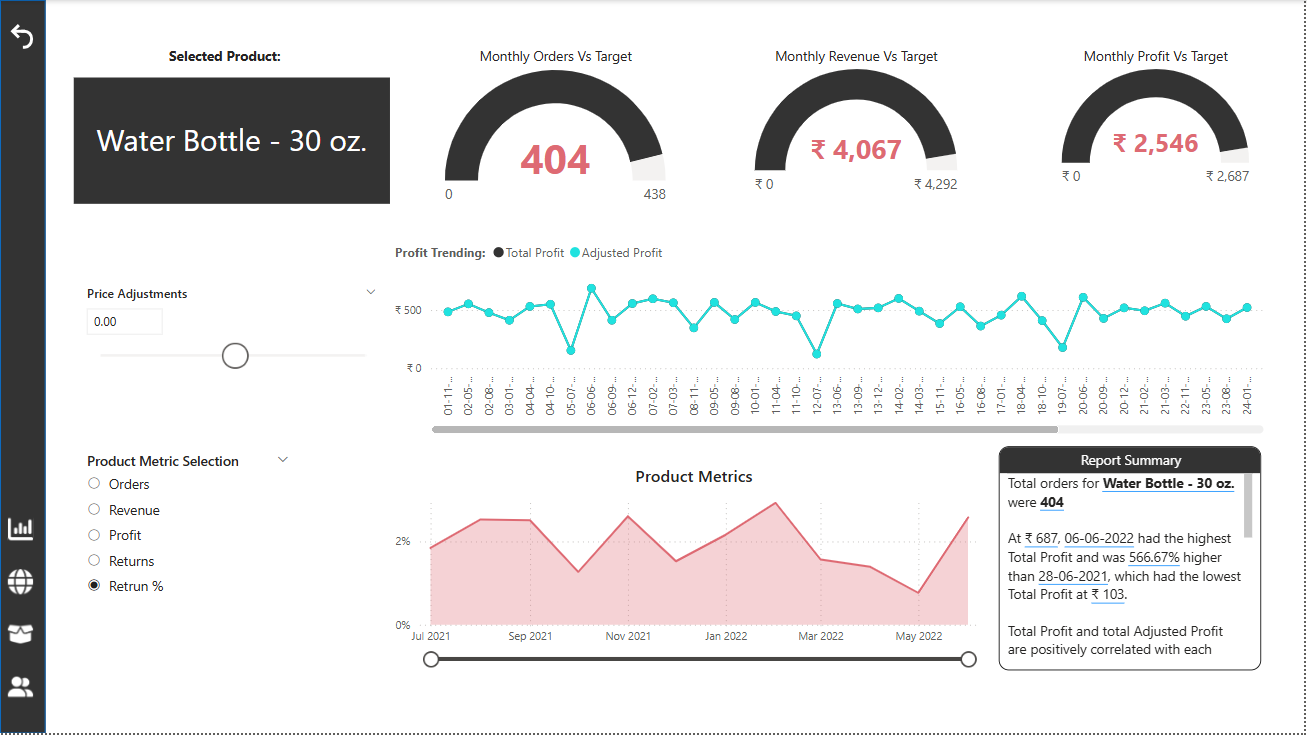

The dashboard page shown, as its layout file describes it:
{"tool":"powerbi","page":{"name":"Product Detail","canvas":[1280,720],"ordinal":2},"visuals":[{"type":"shape","box":[0,0,45,720],"z":0},{"type":"actionButton","box":[3.7,503.1,36.8,33.1],"z":1000,"group":"g1"},{"type":"gauge","title":"Monthly Orders Vs Target","fields":{"Y":["Measure Table.Total Orders"],"MaxValue":["Measure Table.Order Target"]},"box":[431.4,45.6,227,165.6],"z":1000},{"type":"gauge","title":"Monthly Revenue Vs Target","fields":{"Y":["Measure Table.Total Revenue"],"MaxValue":["Measure Table.Revenue Target"]},"box":[725.3,45.6,230.7,154.6],"z":2000},{"type":"actionButton","box":[3.7,554.6,36.8,33.1],"z":2000,"group":"g1"},{"type":"gauge","title":"Monthly Profit Vs Target","fields":{"Y":["Measure Table.Total Profit"],"MaxValue":["Measure Table.Profit Target"]},"box":[1022.8,45.6,222.1,147.2],"z":3000},{"type":"actionButton","box":[3.7,657.7,36.8,33.1],"z":3000,"group":"g1"},{"type":"actionButton","box":[3.7,606.2,36.8,33.1],"z":4000,"group":"g1"},{"type":"lineChart","title":"Profit Trending","fields":{"Category":["Calendar Lookup.Date Hierarchy.Start of Year","Calendar Lookup.Date Hierarchy.Start of Month","Calendar Lookup.Date Hierarchy.Start of Week","Calendar Lookup.Date Hierarchy.Date"],"Y":["Measure Table.Total Profit","Measure Table.Adjusted Profit"]},"box":[382.8,228.2,862.6,202.5],"z":4000},{"type":"areaChart","title":"Product Metrics","fields":{"Y":["Measure Table.Return Rate"],"Category":["Calendar Lookup.Date Hierarchy.Start of Year","Calendar Lookup.Date Hierarchy.Start of Month","Calendar Lookup.Date Hierarchy.Start of Week","Calendar Lookup.Date Hierarchy.Date"]},"box":[383.3,455.6,596.7,202.2],"z":5000},{"type":"card","fields":{"Values":["Min(Product Lookup.ProductName)"]},"box":[72.4,76.1,310.4,123.9],"z":6000},{"type":"textbox","box":[160.7,40.5,135,29.4],"z":7000},{"type":"group","id":"g1","title":"Navigation buttons","box":[3.7,503.1,36.8,187.7],"z":8000},{"type":"slicer","fields":{"Values":["Price Adjustments %.Price Adjustments"]},"box":[72.4,274.8,309.2,141.1],"z":9000},{"type":"slicer","fields":{"Values":["Product Metric Selection.Product Metric Selection"]},"box":[72.4,438,223.3,201.2],"z":10000},{"type":"actionButton","box":[4.9,17.2,34.4,36.8],"z":11000},{"type":"textbox","title":"Report Summary","box":[980,437.8,257.8,220],"z":12000}]}

Visuals, with their boxes on the page's 1280x720 design canvas (x1, y1, x2, y2). These are canvas units, not pixel positions in the 1307x735 screenshot, which may show the page scaled, cropped or inside an application window:
shape: 0,0,45,720
actionButton: 4,503,40,536
"Monthly Orders Vs Target" gauge: 431,46,658,211
"Monthly Revenue Vs Target" gauge: 725,46,956,200
actionButton: 4,555,40,588
"Monthly Profit Vs Target" gauge: 1023,46,1245,193
actionButton: 4,658,40,691
actionButton: 4,606,40,639
"Profit Trending" lineChart: 383,228,1245,431
"Product Metrics" areaChart: 383,456,980,658
card - Min(Product Lookup.ProductName): 72,76,383,200
textbox: 161,40,296,70
"Navigation buttons" group: 4,503,40,691
slicer - Price Adjustments %.Price Adjustments: 72,275,382,416
slicer - Product Metric Selection.Product Metric Selection: 72,438,296,639
actionButton: 5,17,39,54
"Report Summary" textbox: 980,438,1238,658
